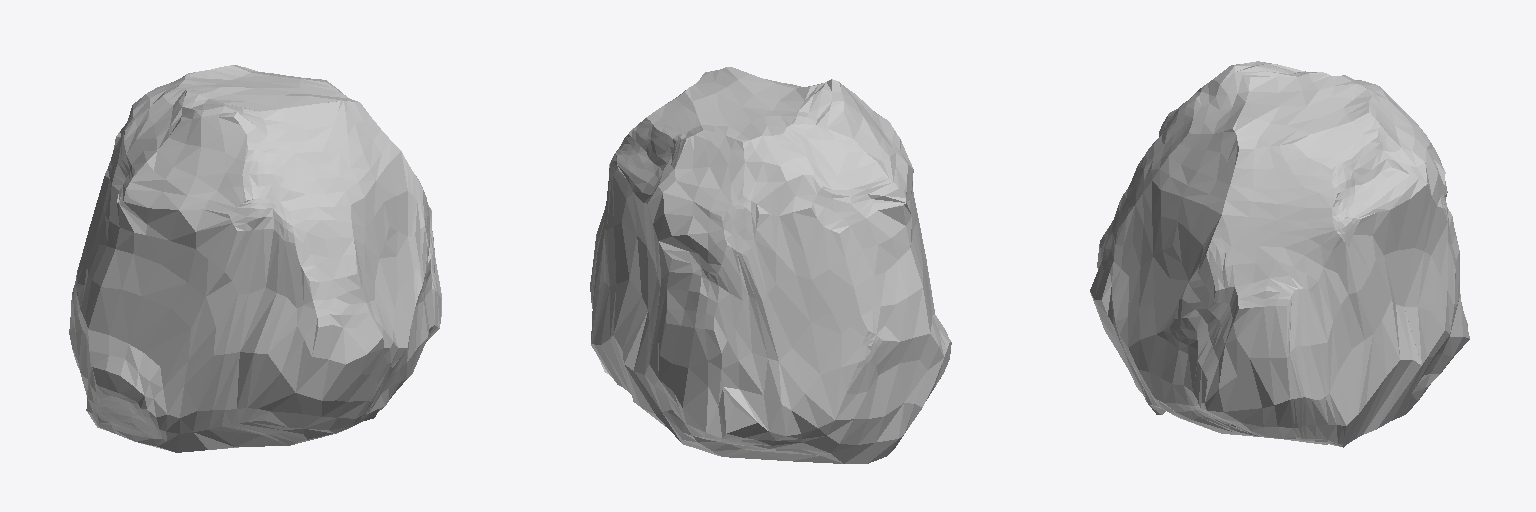
The model's file is Rock_02_Hite.OBJ.
The picture shows the model from 3 angles: view 1: azimuth 30°, elevation 25°; view 2: azimuth 150°, elevation 25°; view 3: azimuth 270°, elevation 25°; orthographic projection.
Visible parts, largest first — view 1: Group2; view 2: Group2; view 3: Group2.
Boxes of the visible parts, x1=… form: Group2: x1=69, y1=65, x2=441, y2=452; Group2: x1=590, y1=67, x2=951, y2=463; Group2: x1=1090, y1=61, x2=1469, y2=447.
Size of the model in its own units: 18.74 by 17.94 by 18.16.